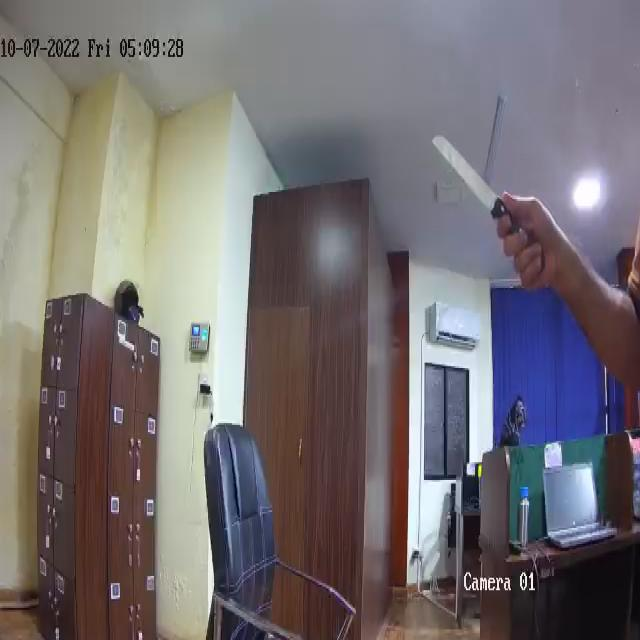weapon: (430, 132, 544, 278)
